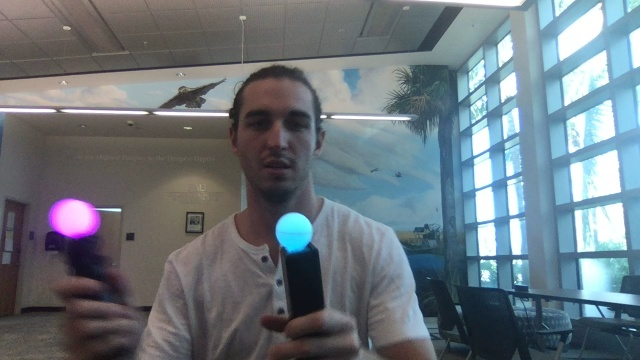wand: (52, 199, 97, 238), (275, 212, 315, 249)
